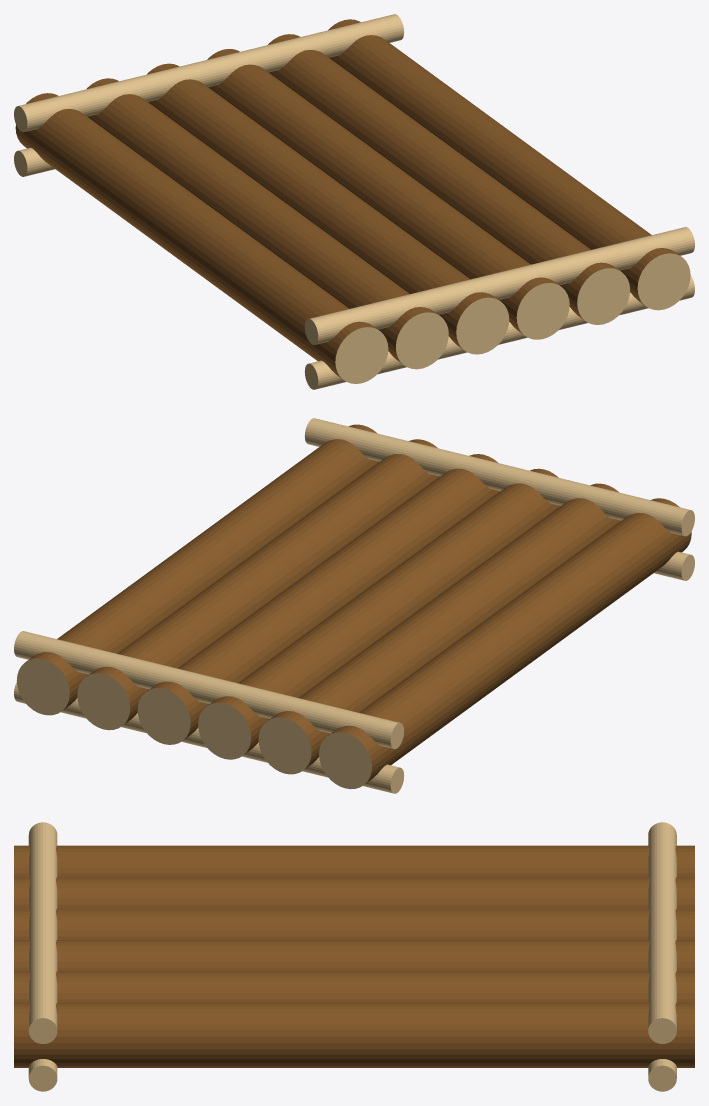
Rendered from Lift2.fbx.
The picture shows the model from 3 angles, top to bottom: view 1: azimuth 30°, elevation 25°; view 2: azimuth 150°, elevation 25°; view 3: azimuth 270°, elevation 25°; orthographic projection. The views are drawn at different scales.
Parts seen in each view (by area): view 1: Platform, wood.001, wood; view 2: Platform, wood, wood.001; view 3: Platform, wood.001, wood.
Boxes of the visible parts, x1,y1,x2,y2 form: Platform: (15, 19, 690, 383); wood.001: (304, 227, 694, 389); wood: (14, 14, 404, 176); Platform: (16, 424, 691, 789); wood: (14, 631, 404, 793); wood.001: (304, 418, 694, 580); Platform: (14, 845, 694, 1067); wood.001: (28, 822, 57, 1091); wood: (648, 822, 676, 1091).
Size of the model in its own units: 275 by 48.15 by 404.
